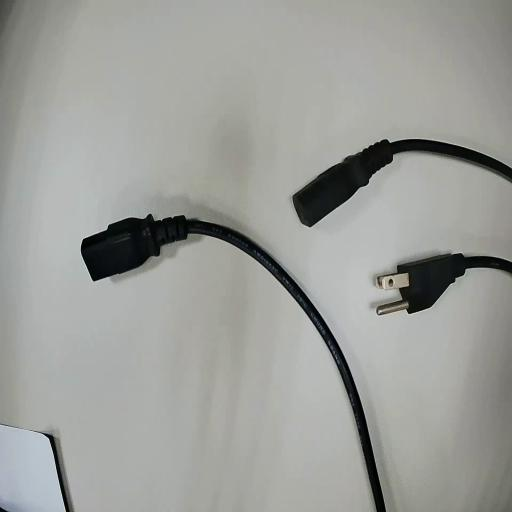wire: (82, 215, 385, 511), (294, 140, 511, 225), (395, 254, 511, 312)
